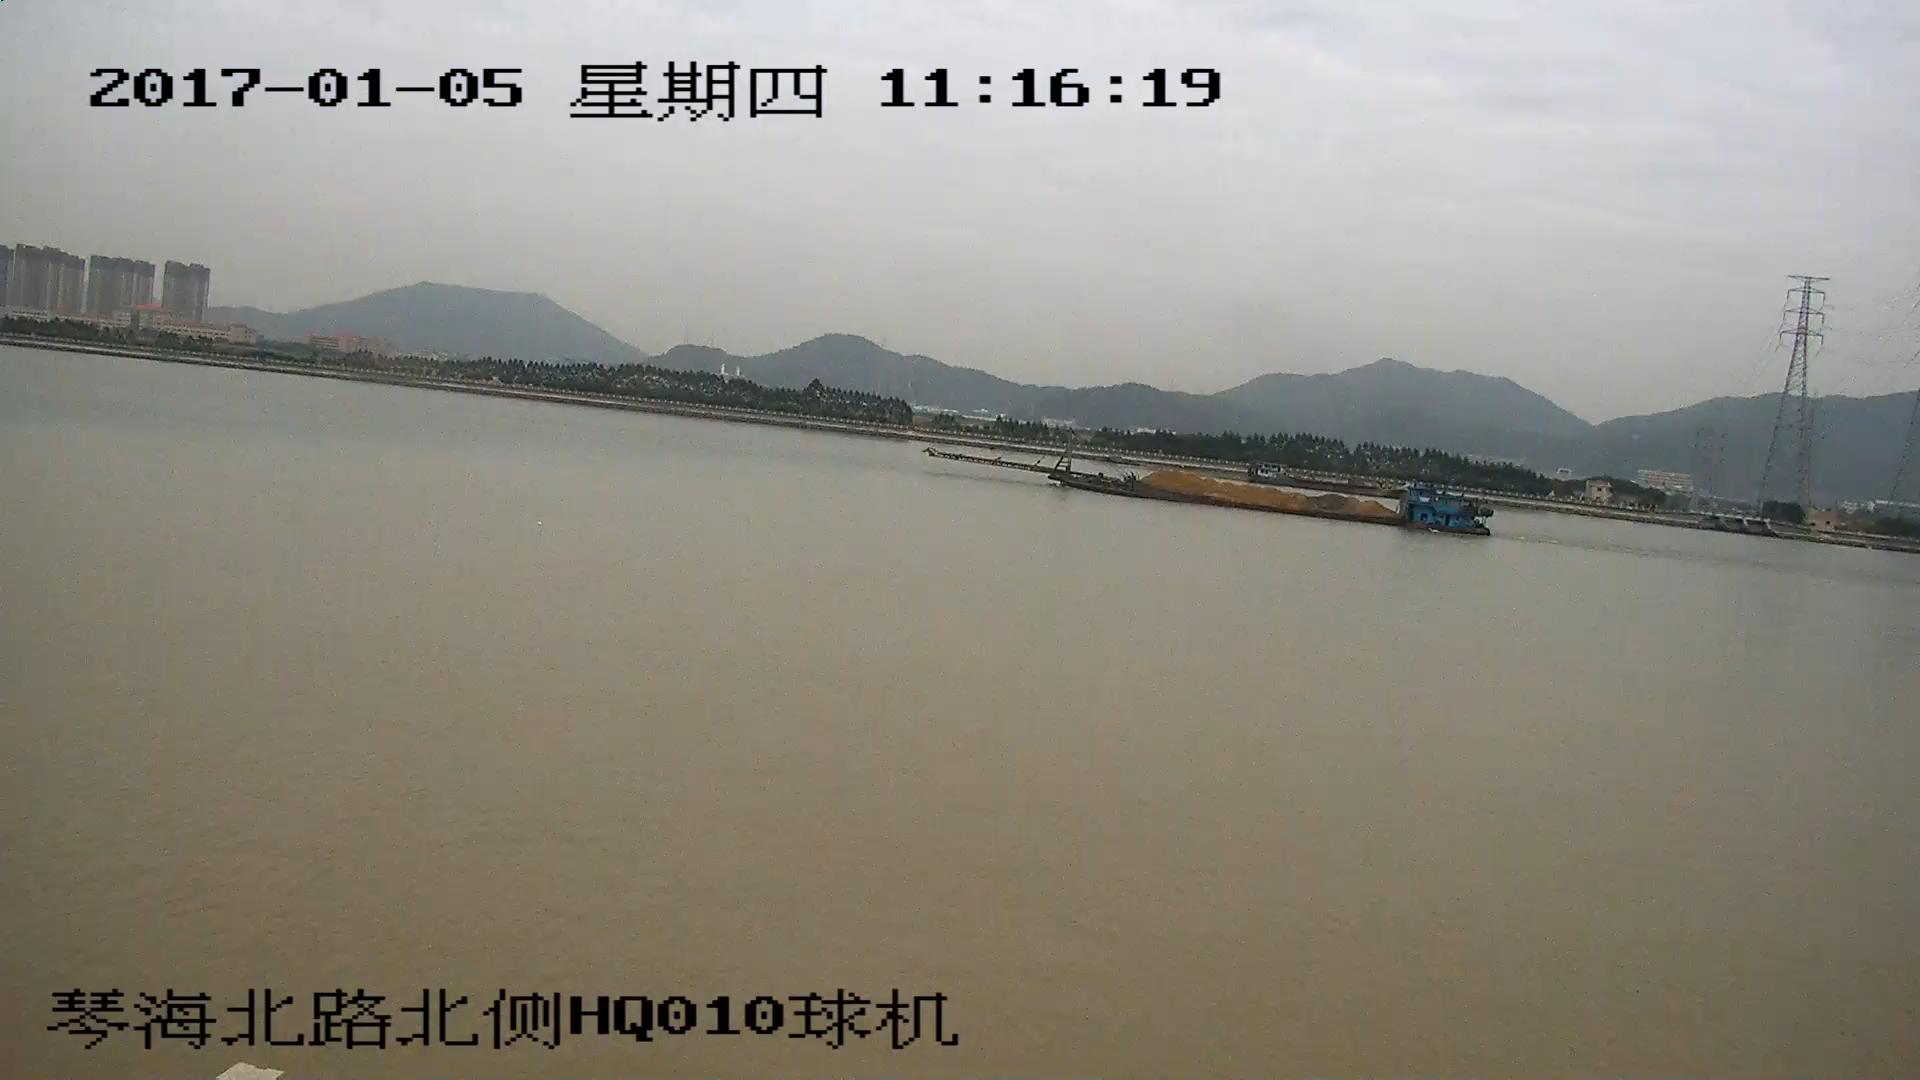ore carrier: (931, 436, 1497, 533)
